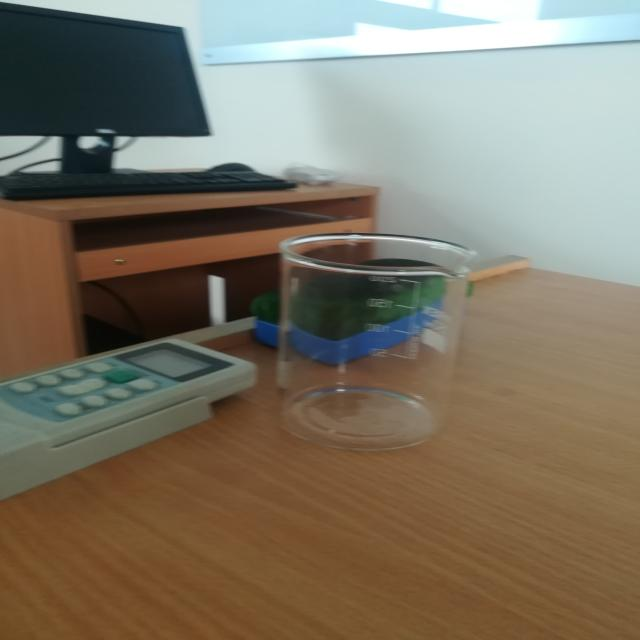Beaker: (237, 196, 514, 468)
